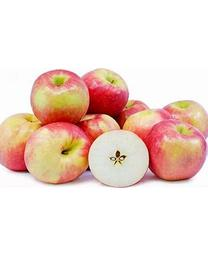apple: (24, 123, 91, 185), (148, 118, 206, 181), (89, 130, 150, 189), (32, 70, 89, 125), (1, 114, 44, 172), (82, 67, 129, 120), (124, 109, 171, 145), (163, 100, 207, 135)
